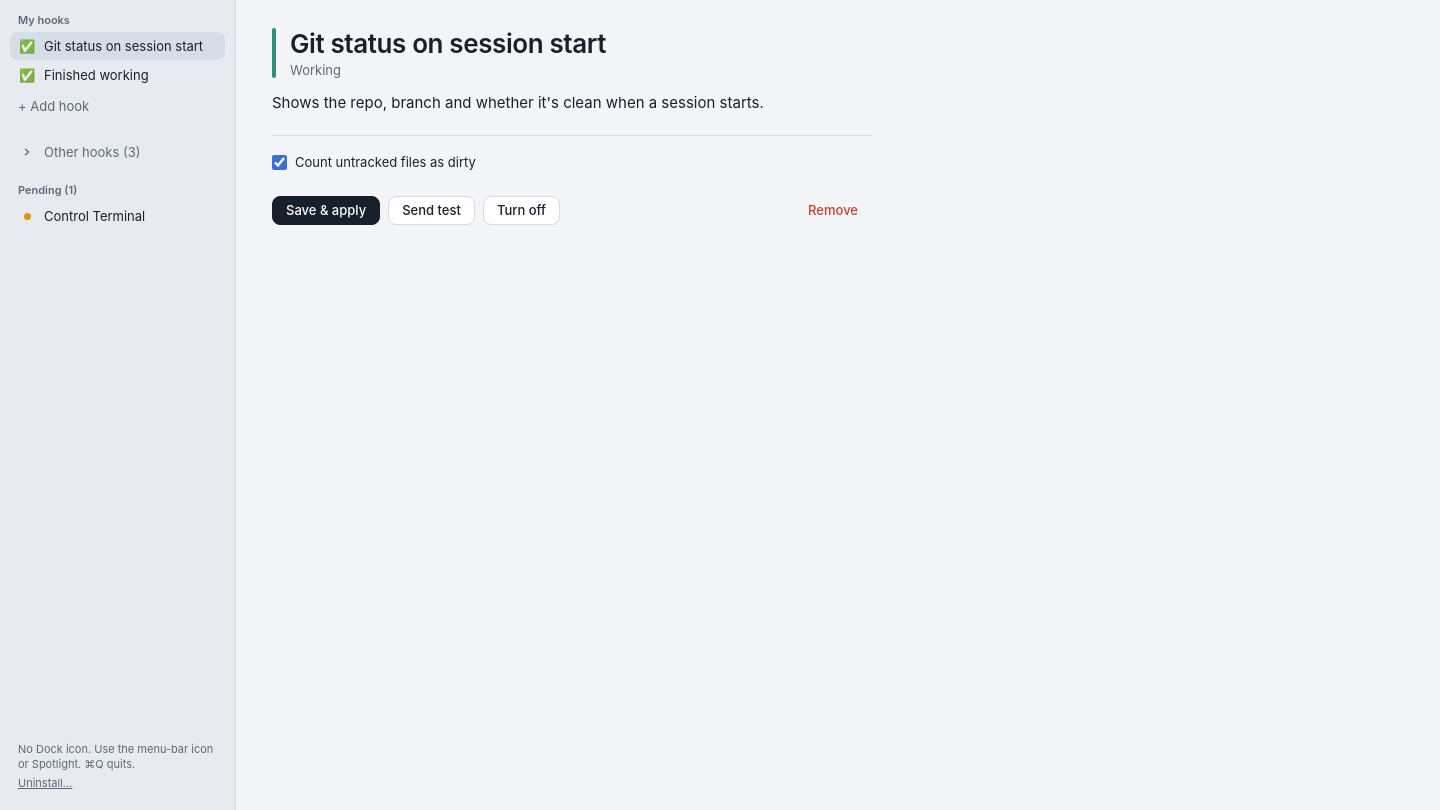
Test: App › uninstall_error_shows_banner
The width and height of the screenshot is (1440, 810).
Click the button "Uninstall…": (45, 783) [18,776,72,790]
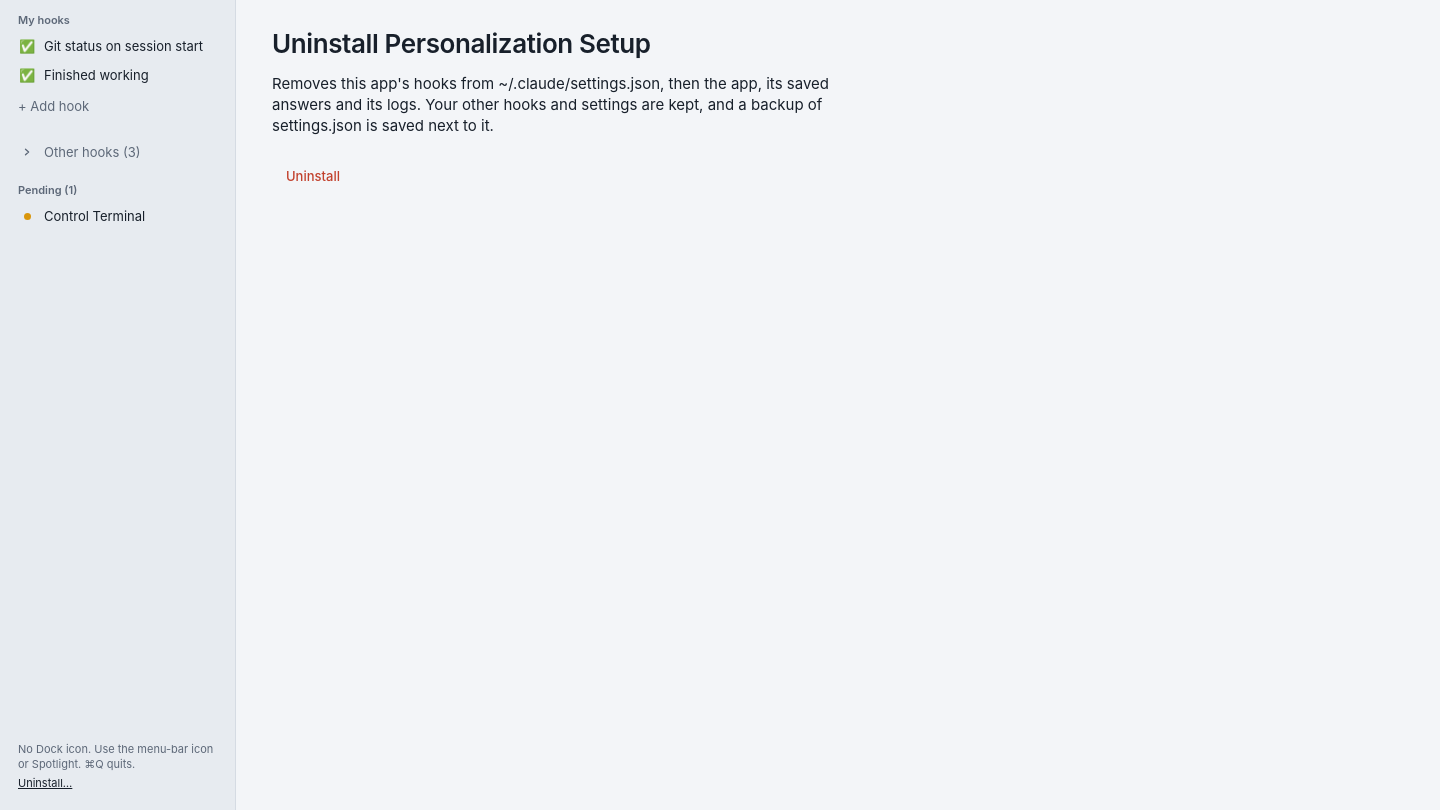
Click the button "Uninstall": (313, 177) [272,162,354,191]
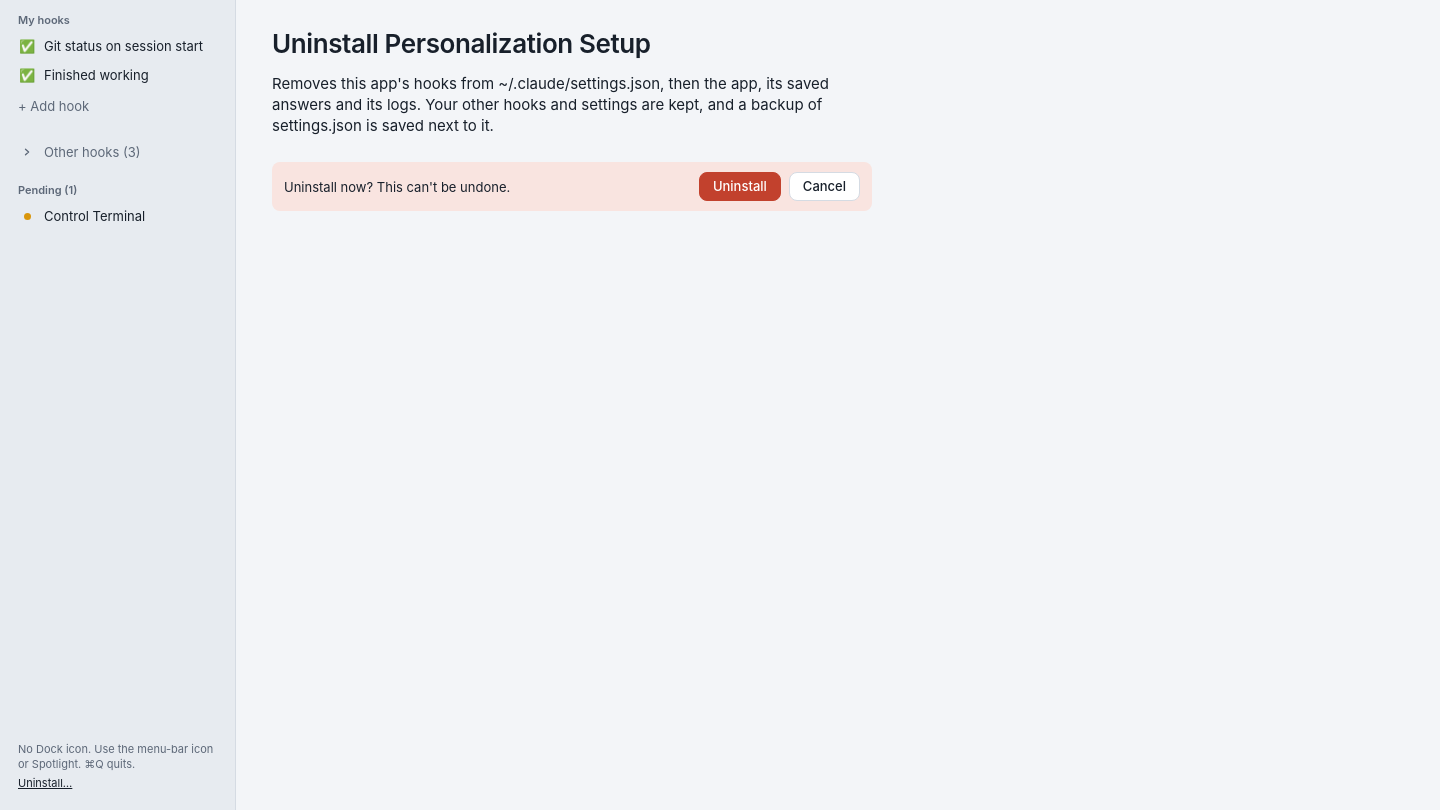
Click the button "Uninstall": (740, 187) [699,172,781,201]
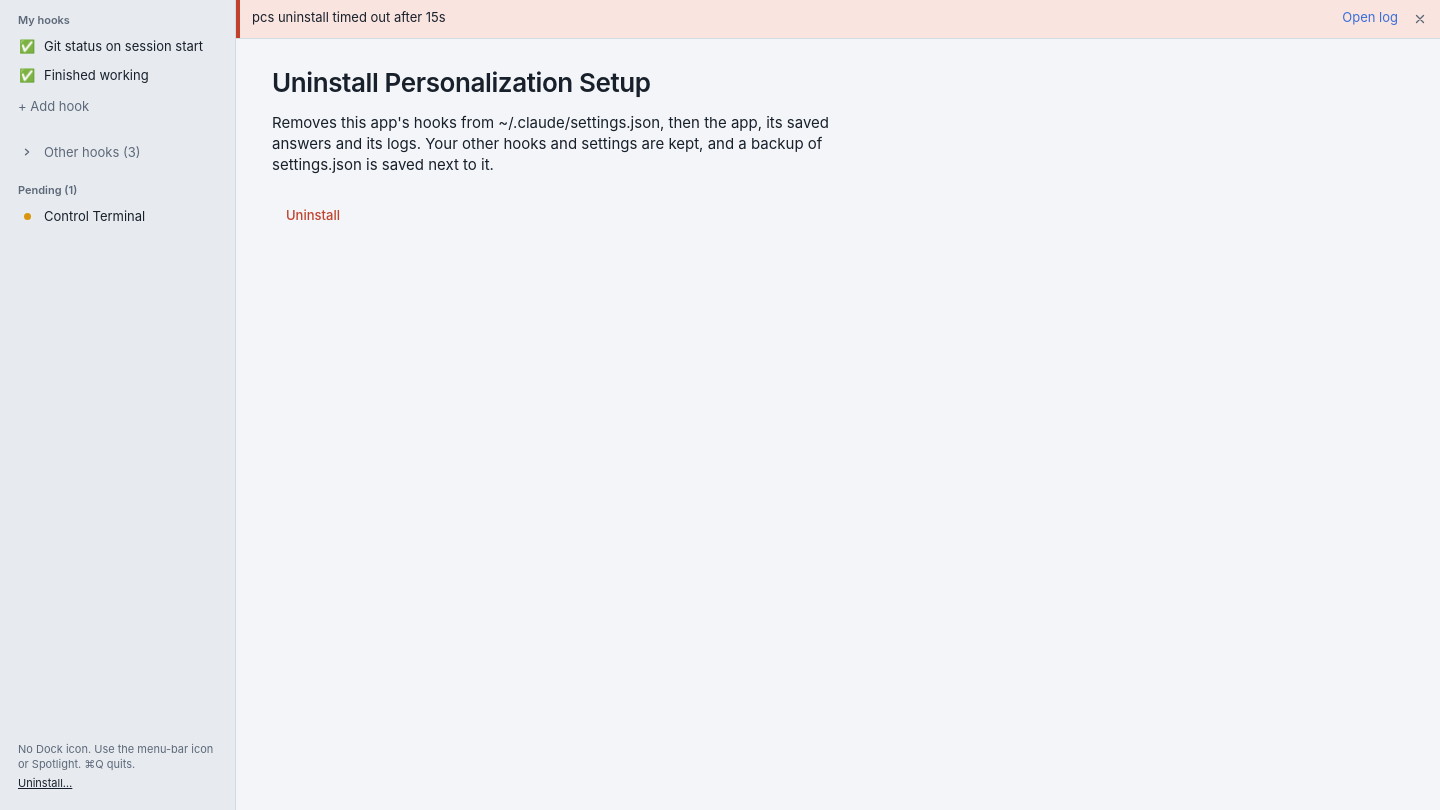
Result: the text "pcs uninstall timed out after 15s" is shown at [252,9,446,25]
